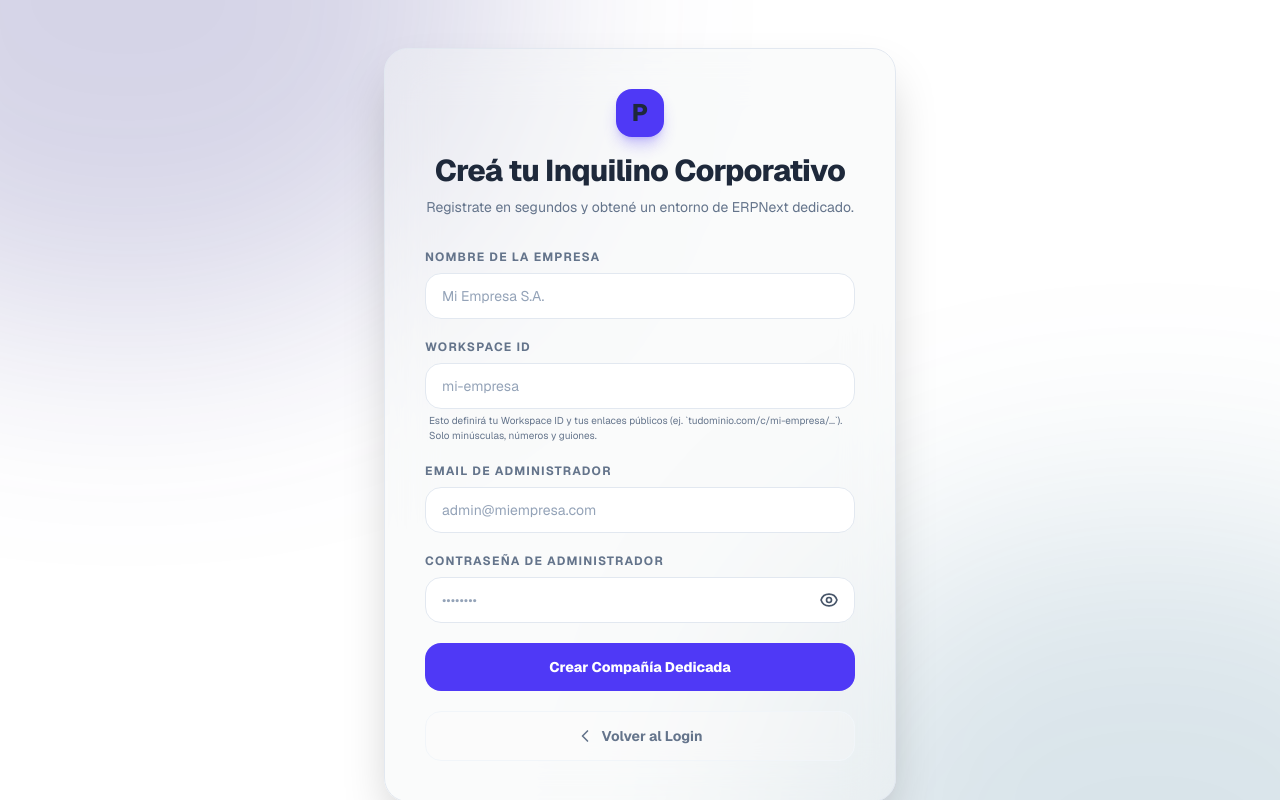
Test case: RegistroPageClient › toggles password visibility in the registration form
The image size is (1280, 800).
Click the button titled "Mostrar Contraseña": (829, 600) [815,586,843,614]
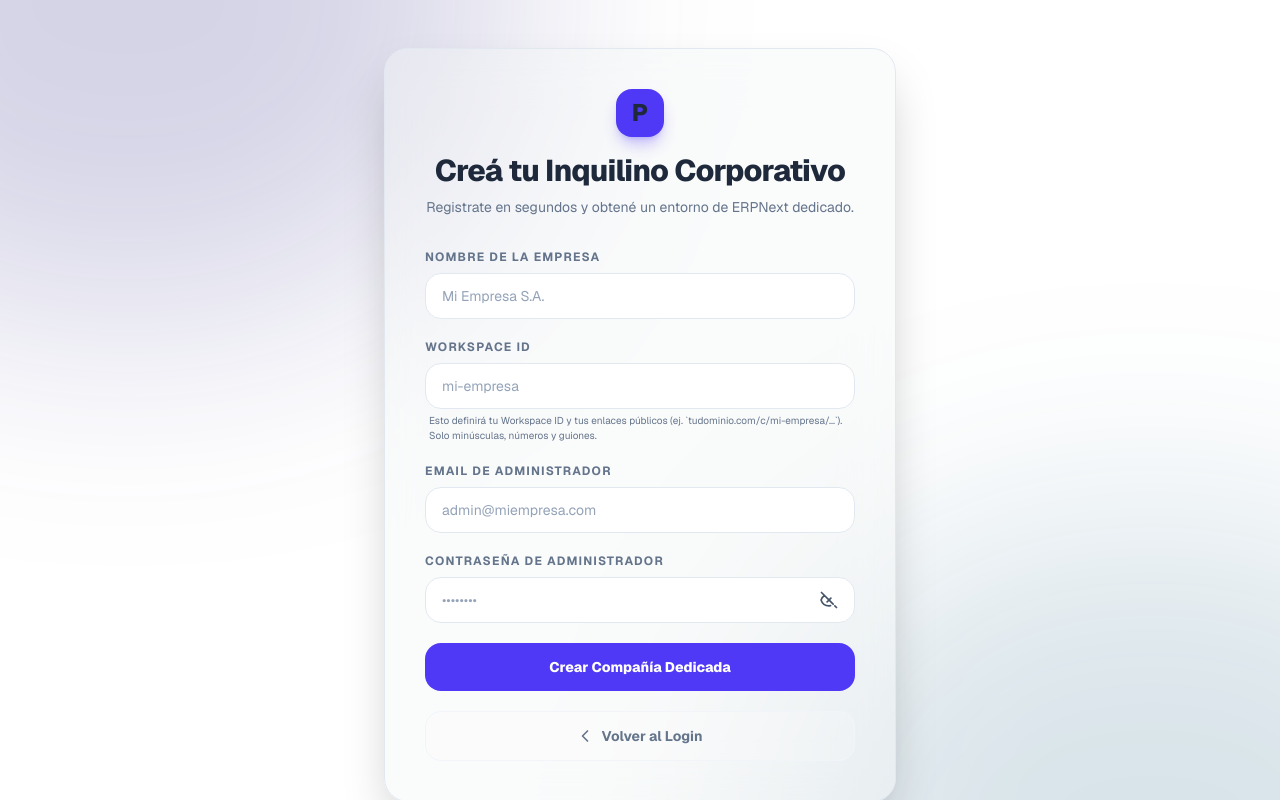
Expected: the button titled "Ocultar Contraseña" is shown, [815,586,843,614]
